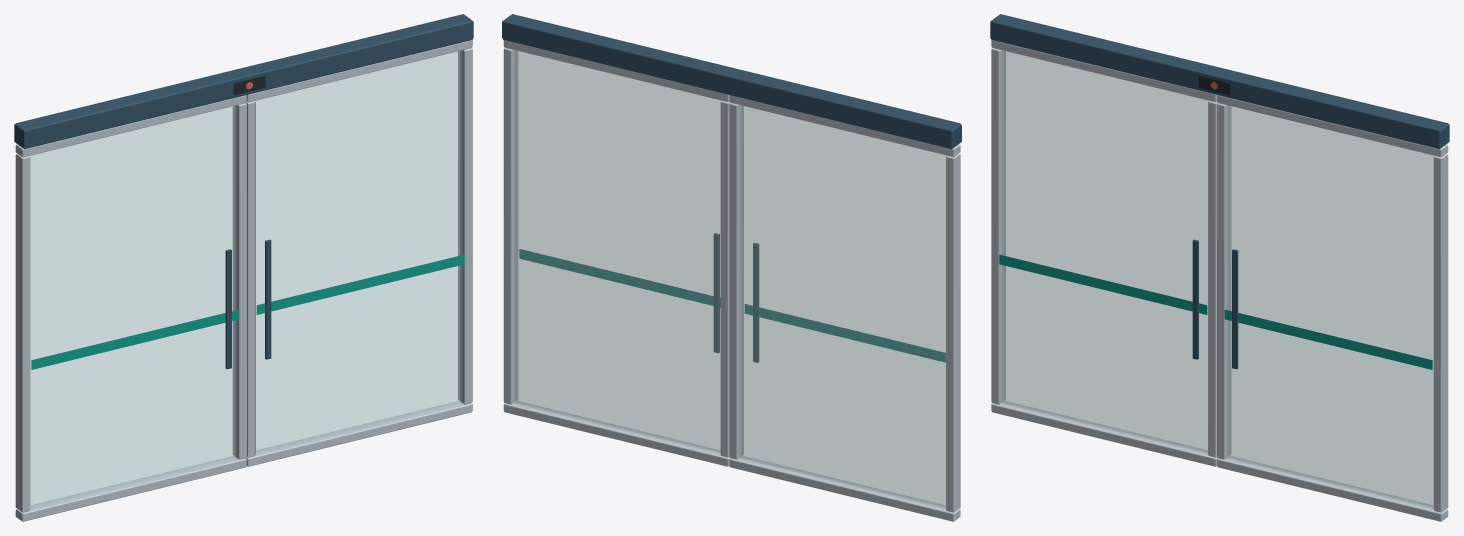
Rendered from CM_Shell_SlidingDoor.fbx.
3 renders of one model, left to right at view 1: azimuth 30°, elevation 25°; view 2: azimuth 150°, elevation 25°; view 3: azimuth 330°, elevation 25°, orthographic.
Parts seen in each view (by area): view 1: DoorLeftGlass, DoorRightGlass, DoorLeft, DoorRight, Track; view 2: DoorRightGlass, DoorLeftGlass, DoorLeft, DoorRight, Track; view 3: DoorRightGlass, DoorLeftGlass, DoorRight, DoorLeft, Track.
Boxes of the visible parts, x1=… form: DoorLeftGlass: x1=29, y1=106, x2=236, y2=508; DoorRightGlass: x1=255, y1=51, x2=461, y2=453; DoorLeft: x1=15, y1=95, x2=246, y2=521; DoorRight: x1=246, y1=40, x2=472, y2=466; Track: x1=14, y1=14, x2=473, y2=149; DoorRightGlass: x1=514, y1=51, x2=720, y2=453; DoorLeftGlass: x1=740, y1=105, x2=946, y2=508; DoorLeft: x1=729, y1=95, x2=960, y2=521; DoorRight: x1=503, y1=40, x2=730, y2=466; Track: x1=502, y1=14, x2=961, y2=149; DoorRightGlass: x1=1227, y1=106, x2=1434, y2=508; DoorLeftGlass: x1=1002, y1=51, x2=1208, y2=453; DoorRight: x1=1217, y1=95, x2=1448, y2=521; DoorLeft: x1=991, y1=40, x2=1217, y2=466; Track: x1=990, y1=14, x2=1449, y2=149.
Bounding box in the file's own units: 14.4 × 0.6 × 12.
Materials: 2 (2 with a texture image).
